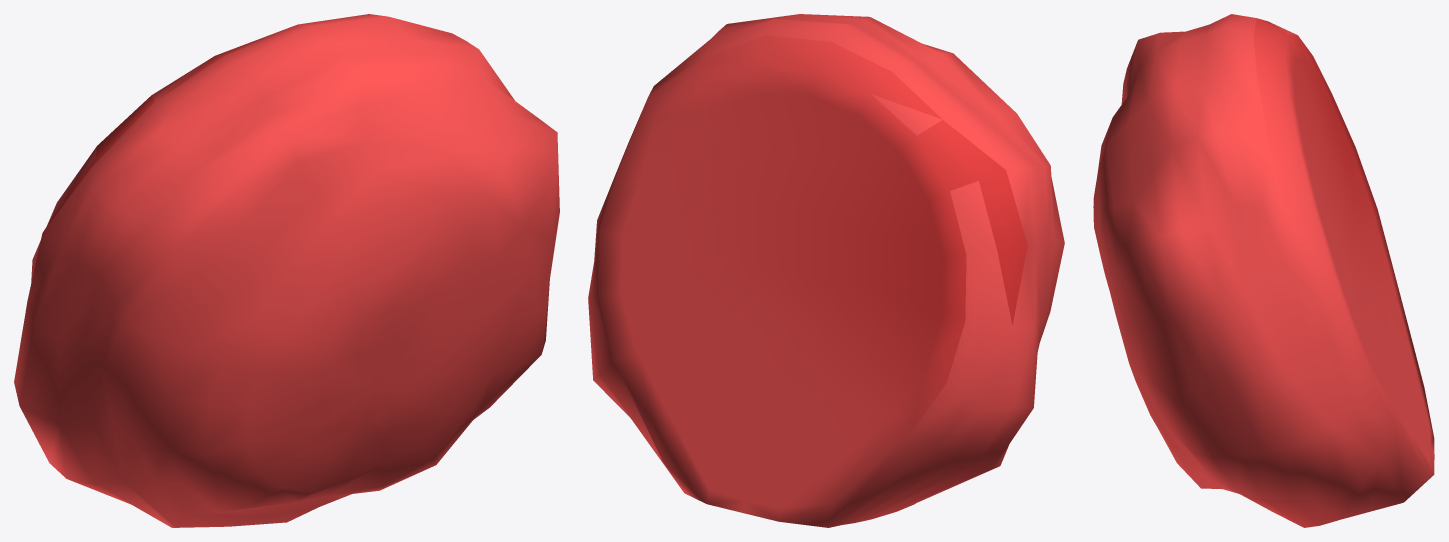
The model's file is Aumlot_Room_Light_01.fbx.
3 views of the same model, side by side, from view 1: azimuth 30°, elevation 25°; view 2: azimuth 150°, elevation 25°; view 3: azimuth 270°, elevation 25° (orthographic). The views are drawn at different scales.
Visible parts, largest first — view 1: Aumlot_Room_Light_01; view 2: Aumlot_Room_Light_01; view 3: Aumlot_Room_Light_01.
Boxes of the visible parts, x1,y1,x2,y2 form: Aumlot_Room_Light_01: [14, 14, 559, 527]; Aumlot_Room_Light_01: [588, 14, 1064, 527]; Aumlot_Room_Light_01: [1093, 14, 1434, 527].
Bounding box in the file's own units: 5.2 × 5.08 × 3.34.
